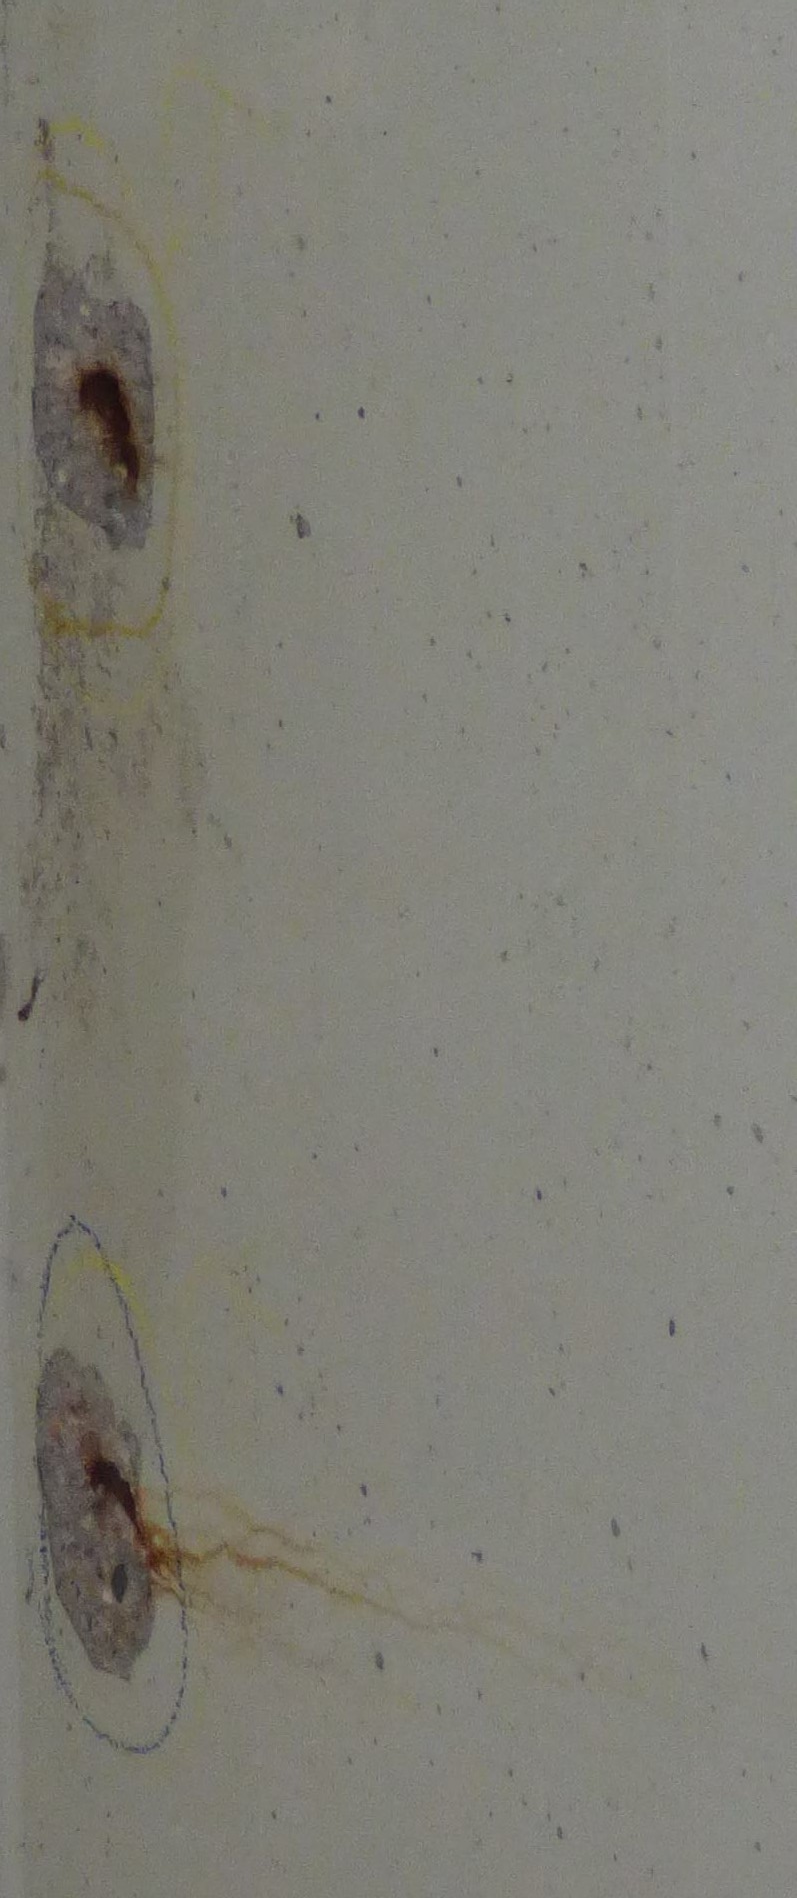Exposed reinforcement: (78, 368, 141, 496), (87, 1456, 141, 1530)
Spalling: (34, 1347, 155, 1684), (29, 241, 157, 552)
